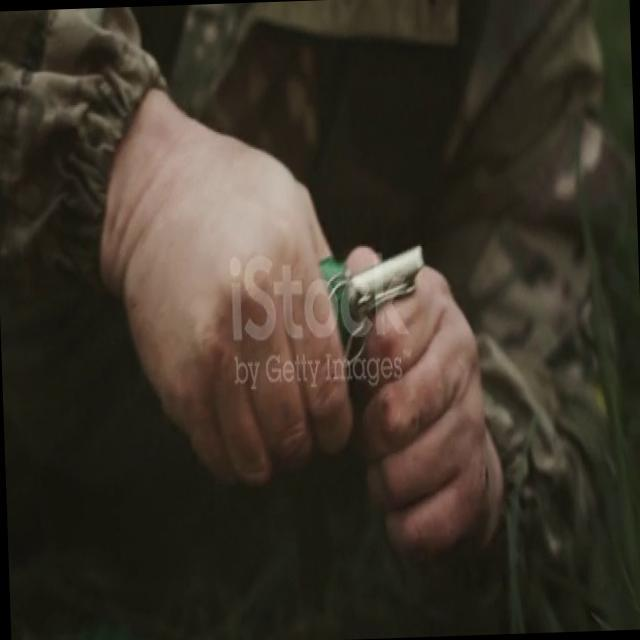grenade: (321, 228, 429, 356)
